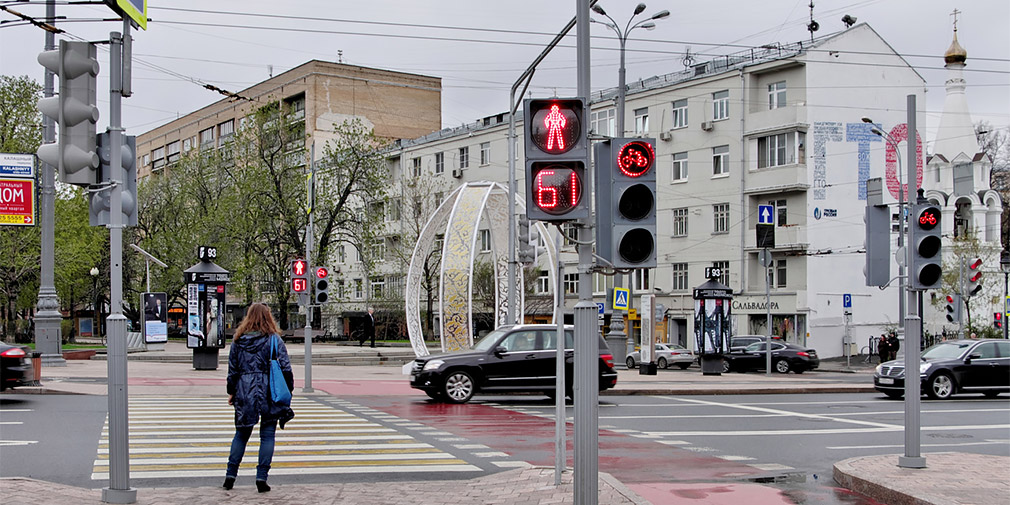tl: (521, 97, 596, 224), (600, 138, 658, 270), (908, 205, 944, 291), (289, 255, 312, 299), (316, 266, 330, 305)
